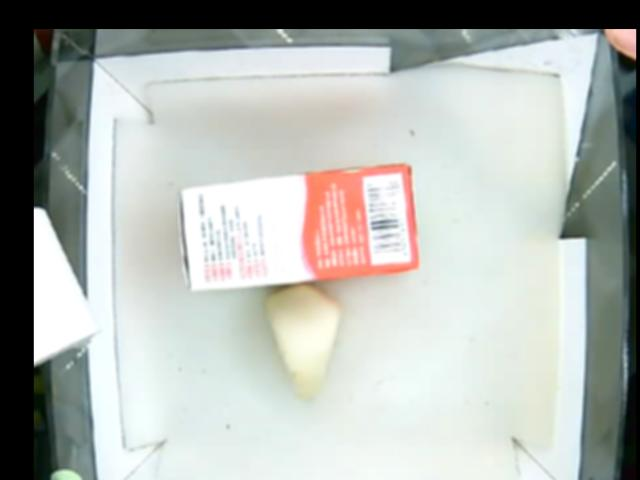Medicine: (180, 163, 421, 293)
Mooli: (267, 286, 344, 406)
